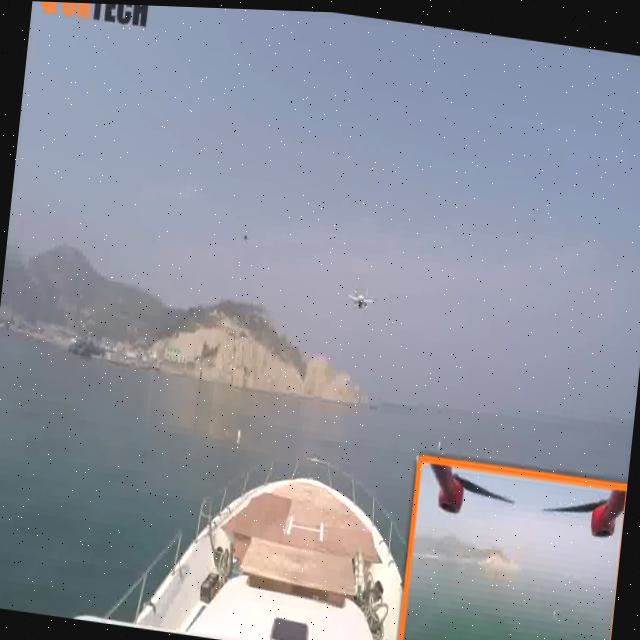drone: (338, 268, 374, 319)
